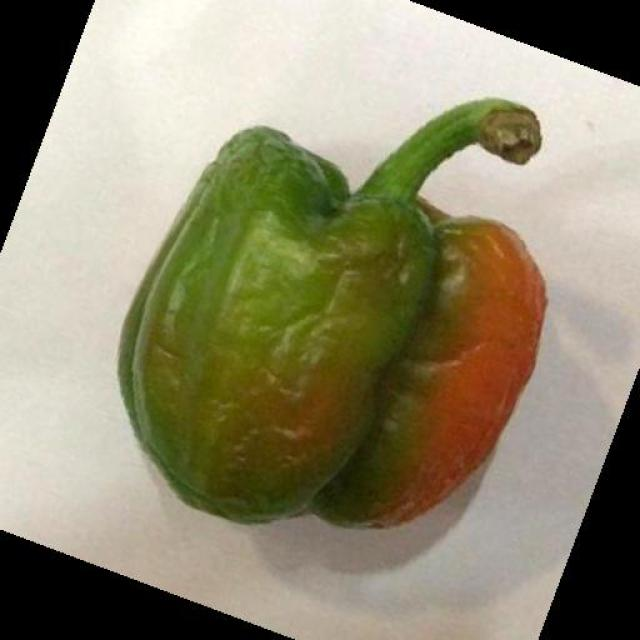Stale_Capsicum: (168, 100, 565, 546)
